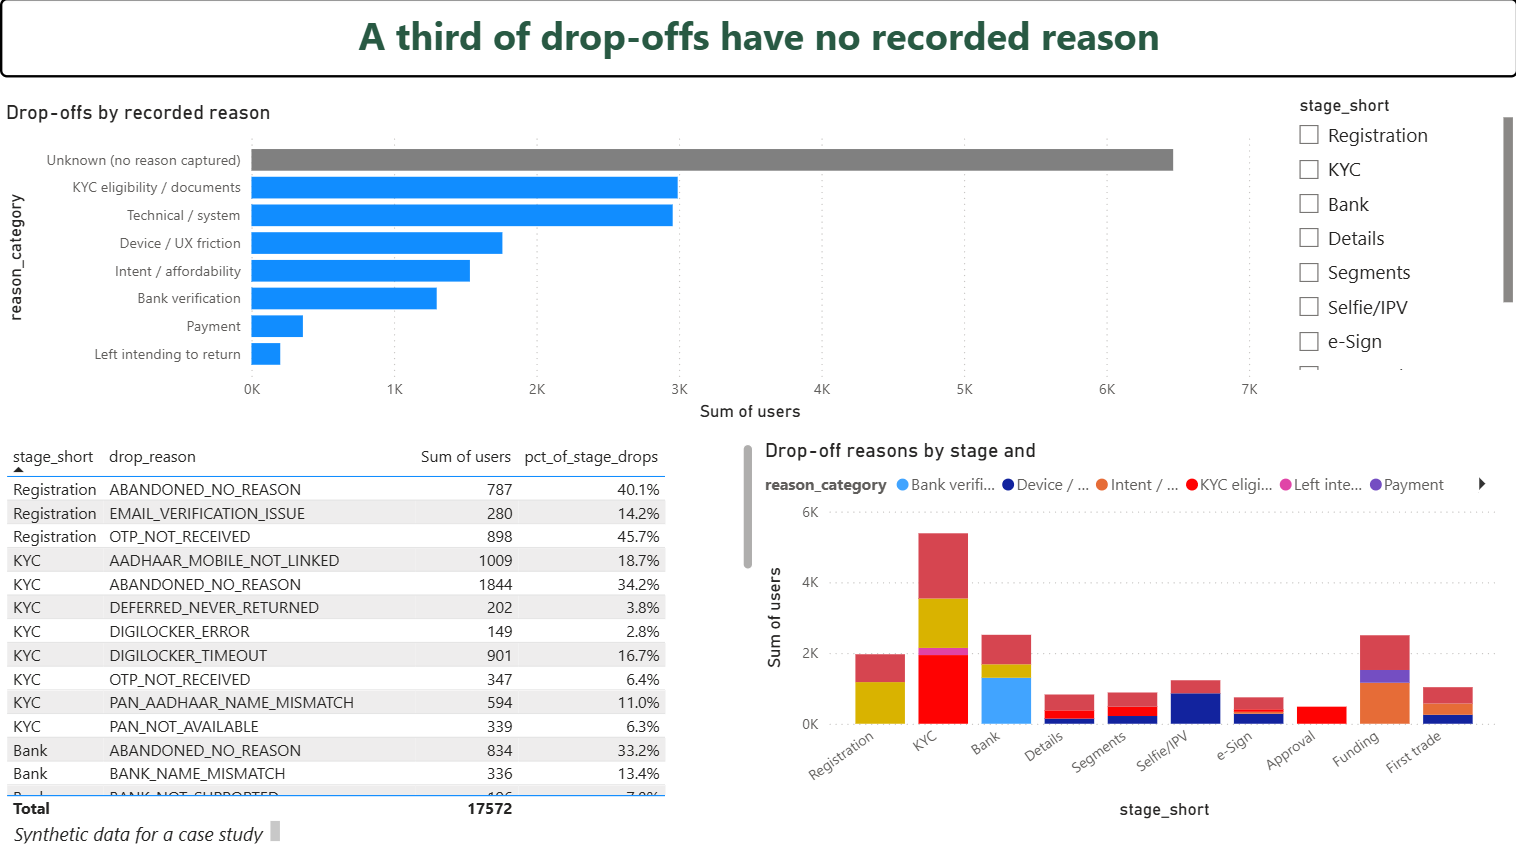

This screenshot's page, from the dashboard's own definition file:
{"tool":"powerbi","page":{"name":"Why users drop ","canvas":[1280,720],"ordinal":2},"visuals":[{"type":"textbox","box":[0,0,1280,66.7],"z":0},{"type":"clusteredBarChart","title":"Drop-offs by recorded reason","fields":{"Category":["drop_reason_categories.reason_category"],"Y":["Sum(drop_reason_categories.users)"]},"box":[0,86.2,1065,275],"z":1000},{"type":"tableEx","fields":{"Values":["drop_reasons_by_stage.stage_short","drop_reasons_by_stage.drop_reason","Sum(drop_reasons_by_stage.users)","drop_reasons_by_stage.pct_of_stage_drops"]},"box":[0,371.2,640,326.2],"z":2000},{"type":"slicer","fields":{"Values":["drop_reasons_by_stage.stage_short"]},"box":[1082.5,77.5,197.5,241.2],"z":3000},{"type":"columnChart","title":"Drop-off reasons by stage and","fields":{"Category":["drop_reasons_by_stage.stage_short"],"Series":["drop_reasons_by_stage.reason_category"],"Y":["Sum(drop_reasons_by_stage.users)"]},"box":[640,371.2,628.8,326.2],"z":4000},{"type":"textbox","box":[0,688.9,241.1,28.9],"z":4001}]}

Visuals, with their boxes in screenshot pixels (x1, y1, x2, y2), scaled from the page's 1280x720 canvas onto the 1516x852 screenshot:
textbox: 0 0 1515 79
"Drop-offs by recorded reason" clusteredBarChart: 0 102 1261 427
tableEx - drop_reasons_by_stage.stage_short x drop_reasons_by_stage.drop_reason: 0 439 758 825
slicer - drop_reasons_by_stage.stage_short: 1282 92 1515 377
"Drop-off reasons by stage and" columnChart: 758 439 1503 825
textbox: 0 815 286 849
